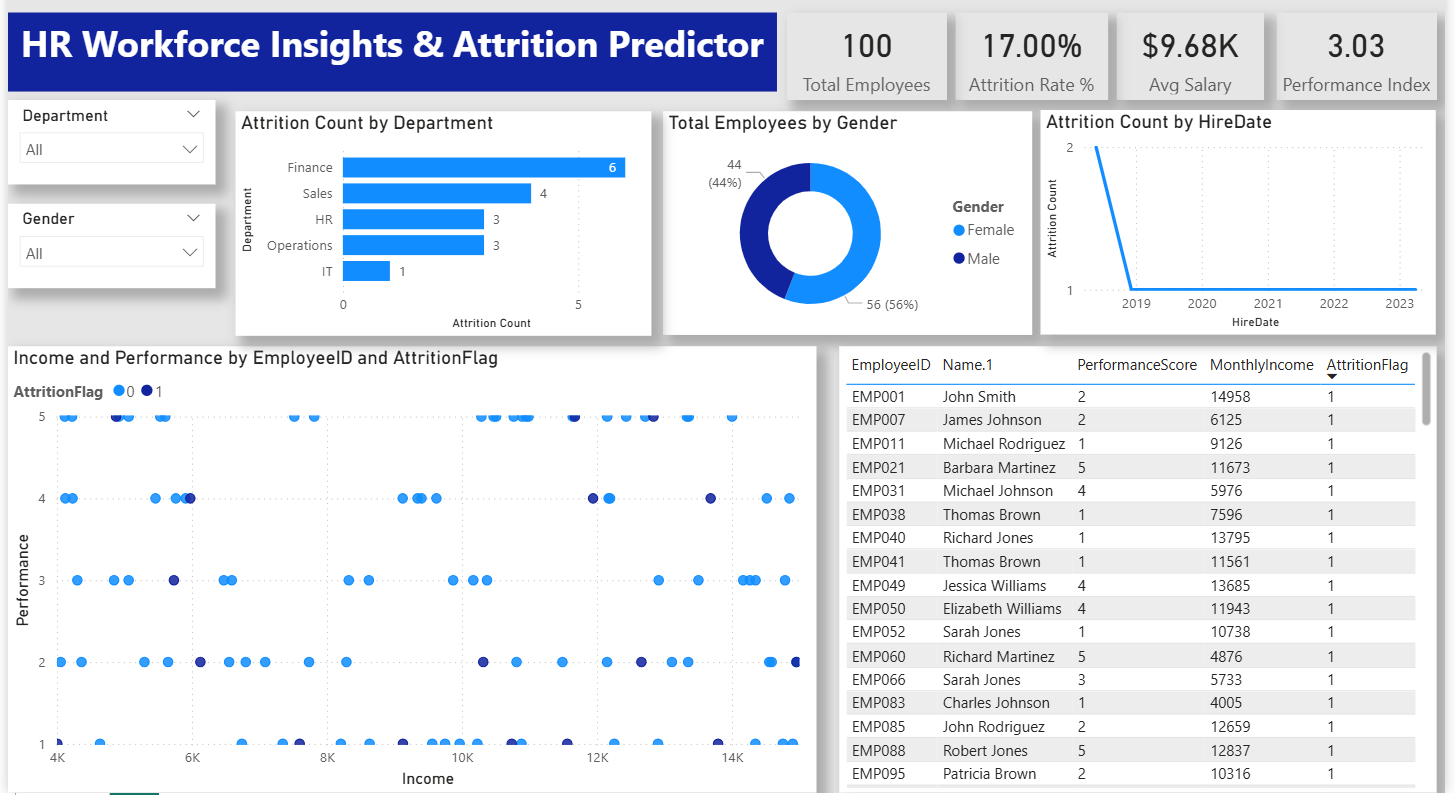

This screenshot's page, from the dashboard's own definition file:
{"tool":"powerbi","page":{"name":"Page 1","canvas":[1280,720],"ordinal":0},"visuals":[{"type":"card","fields":{"Values":["Employees.Total Employees"]},"box":[693.5,24.5,142.5,77.9],"z":0},{"type":"card","fields":{"Values":["Attrition.Attrition Rate %"]},"box":[843.8,24.5,135.8,77.9],"z":1},{"type":"card","fields":{"Values":["Salary.Avg Salary"]},"box":[987.4,24.5,131.4,77.9],"z":2},{"type":"card","fields":{"Values":["Performance.Performance Index"]},"box":[1130,24.4,142.2,77.8],"z":3},{"type":"donutChart","fields":{"Category":["Employees.Gender"],"Y":["Employees.Total Employees"]},"box":[583.3,112.2,328.9,198.9],"z":5},{"type":"scatterChart","fields":{"Y":["Sum(Performance.PerformanceScore)"],"Category":["Employees.EmployeeID"],"X":["Sum(Salary.MonthlyIncome)"],"Series":["Attrition.AttritionFlag"]},"box":[0,322.2,720,397.8],"z":6},{"type":"tableEx","fields":{"Values":["Attrition.EmployeeID","Employees.Name.1","Employees.PerformanceScore","Employees.MonthlyIncome","Employees.AttritionFlag"]},"box":[740,322.2,532.2,397.8],"z":7},{"type":"lineChart","fields":{"Y":["Attrition.Attrition Count"],"Category":["Employees.HireDate"]},"box":[920,111.1,352.2,200],"z":8},{"type":"slicer","fields":{"Values":["Employees.Department"]},"box":[0,102.2,184.4,75.6],"z":9},{"type":"slicer","fields":{"Values":["Employees.Gender"]},"box":[0,194.4,184.4,75.6],"z":10},{"type":"clusteredBarChart","fields":{"Category":["Employees.Department"],"Y":["Attrition.Attrition Count"]},"box":[202.2,112.2,370,200],"z":12},{"type":"textbox","box":[0,24.4,684.4,70],"z":13}]}

Visuals, with their boxes in screenshot pixels (x1, y1, x2, y2), scaled from the page's 1280x720 canvas onto the 1455x795 screenshot:
card - Employees.Total Employees: (788,27,950,113)
card - Attrition.Attrition Rate %: (959,27,1114,113)
card - Salary.Avg Salary: (1122,27,1272,113)
card - Performance.Performance Index: (1284,27,1446,113)
donutChart - Employees.Gender x Employees.Total Employees: (663,124,1037,344)
scatterChart - Sum(Performance.PerformanceScore) x Employees.EmployeeID: (0,356,818,794)
tableEx - Attrition.EmployeeID x Employees.Name.1: (841,356,1446,794)
lineChart - Attrition.Attrition Count x Employees.HireDate: (1046,123,1446,344)
slicer - Employees.Department: (0,113,210,196)
slicer - Employees.Gender: (0,215,210,298)
clusteredBarChart - Employees.Department x Attrition.Attrition Count: (230,124,650,345)
textbox: (0,27,778,104)
